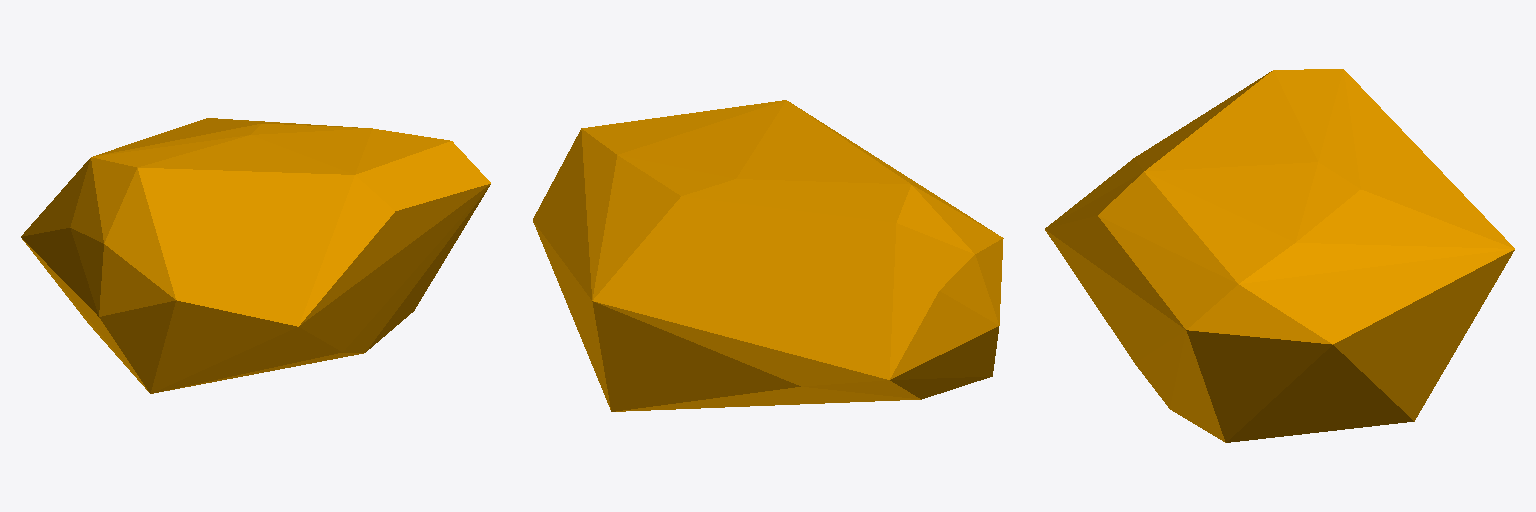
URDF robot description (train0948):
<?xml version="1.0"?>
<robot name="train0948">
  <link name="link">
    <contact>
      <lateral_friction value="0.6"/>
    </contact>
    <inertial>
      <mass value = "0.5105457439973753"/>
      <inertia ixx="0.00024161643522553394" ixy="2.692472893860105e-20" ixz="2.743758091838393e-20" iyy="0.0003315733062473636" iyz="-6.289949232512846e-21" izz="0.0004291531159016274" />
    </inertial>
    <visual name="visual">
      <geometry>
        <mesh filename="train0948.obj"/>
      </geometry>
    </visual>
    <collision name="collision">
      <geometry>
        <mesh filename="train0948.obj"/>
      </geometry>
    </collision>
  </link>
</robot>

--- What the picture shows (computed from the rendered views, not written in the file) ---
3 views of the same robot in one strip: view 1: azimuth 30°, elevation 25°; view 2: azimuth 150°, elevation 25°; view 3: azimuth 270°, elevation 25° (orthographic).
Robot: train0948 — 1 links, 0 joints (none); root link link; default pose: all joints at 0.
Visible links, largest first — view 1: link; view 2: link; view 3: link.
Link boxes in pixels (bbox=[...]): link: bbox=[21, 118, 490, 393]; link: bbox=[533, 100, 1003, 411]; link: bbox=[1045, 69, 1514, 442].
Size in the robot's own frame: 0.1009 by 0.0933 by 0.0518 metres.
1 mesh visuals loaded from 1 distinct referenced files (1 OBJ).
